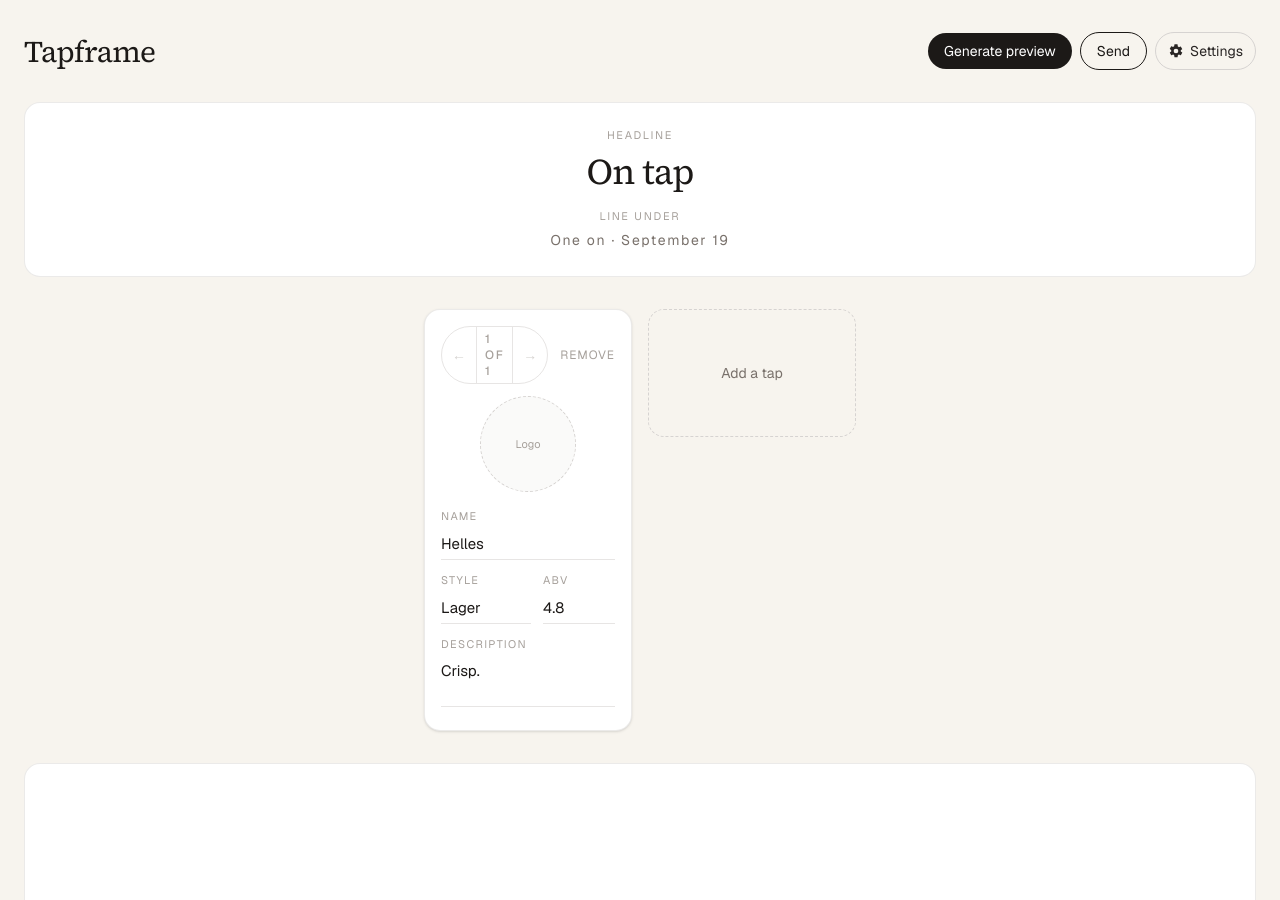
AdminApp › opens display settings in a dialog and closes on save
The width and height of the screenshot is (1280, 900).
Click the button "Settings".
click(1206, 51)  # box [1155,32,1256,70]
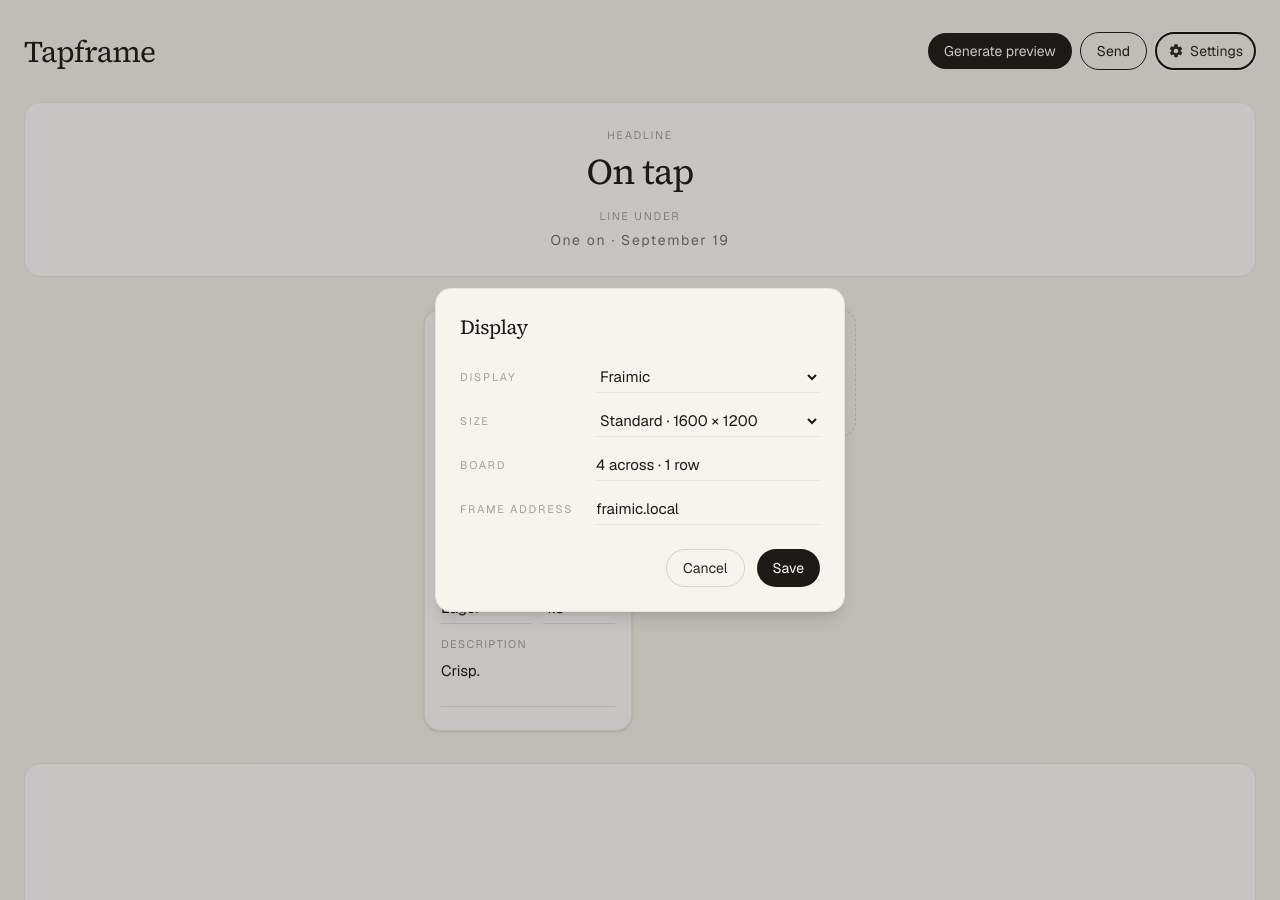
Now the 1st dropdown named "Display" is shown, box [596,361,820,393]
Now the dropdown named "Size" next to "Size" is shown, box [596,405,820,437]
Now the field named "Frame address" holds "fraimic.local", box [596,493,820,525]
Click the button "Save".
click(788, 568)  # box [756,549,820,587]
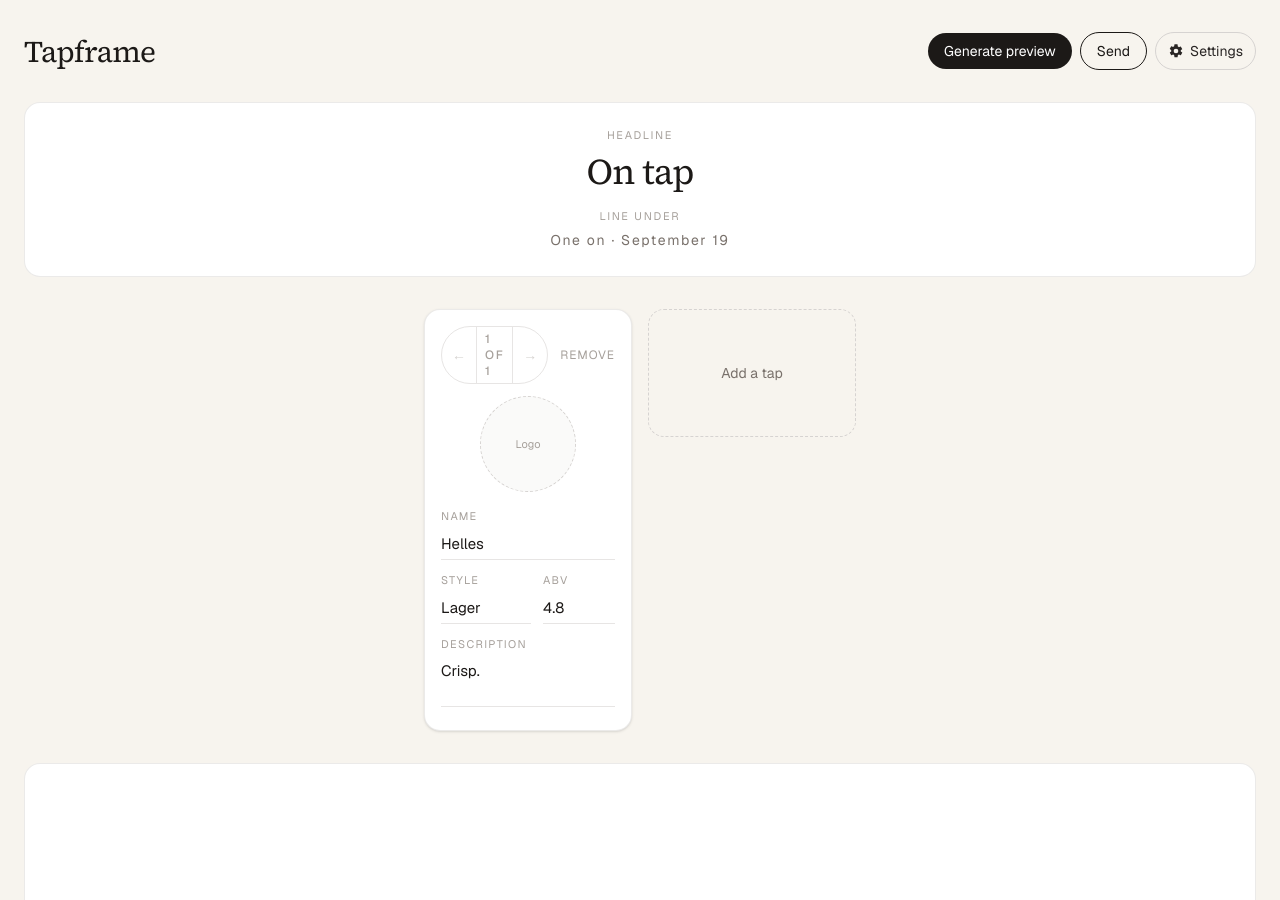
Now the dialog is gone
